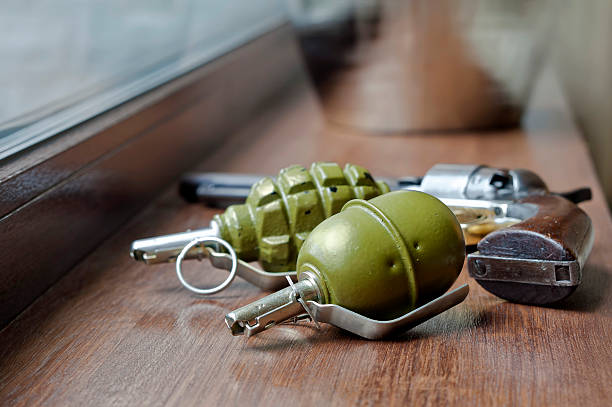e1: (228, 188, 474, 354)
